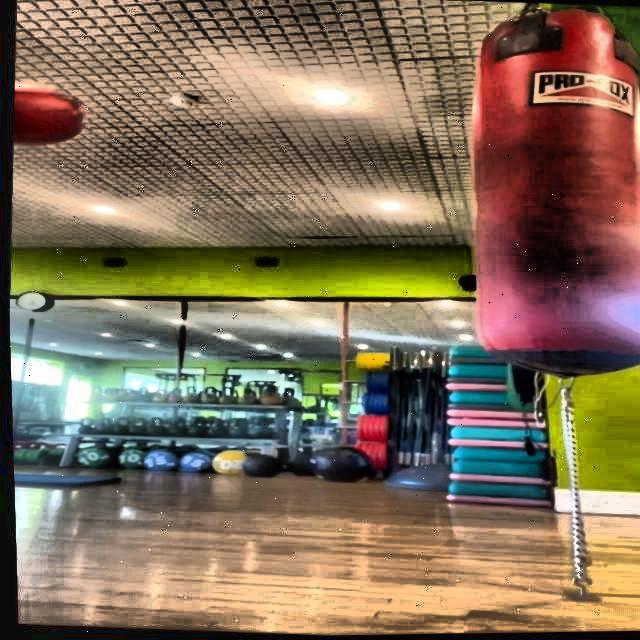boxing-bag: (462, 1, 640, 388)
